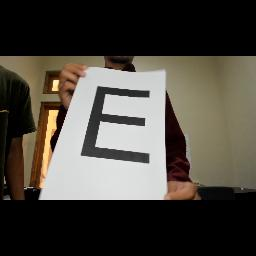e: (76, 83, 156, 169)
